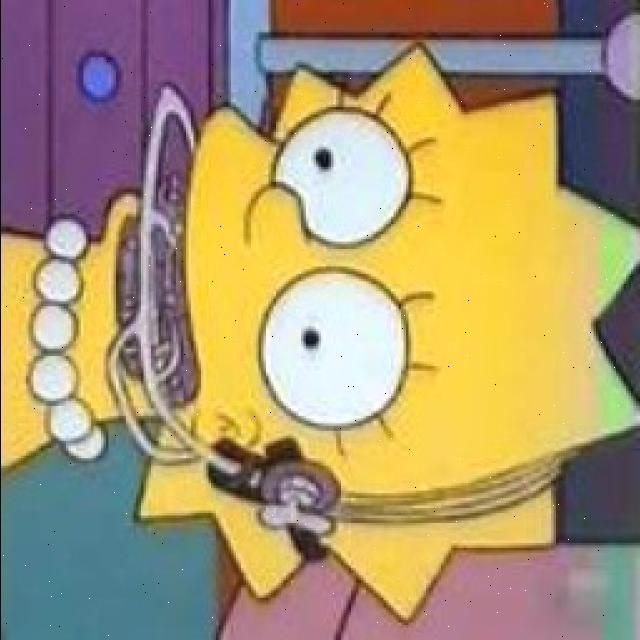Lisa Simpson: (21, 36, 639, 631)
